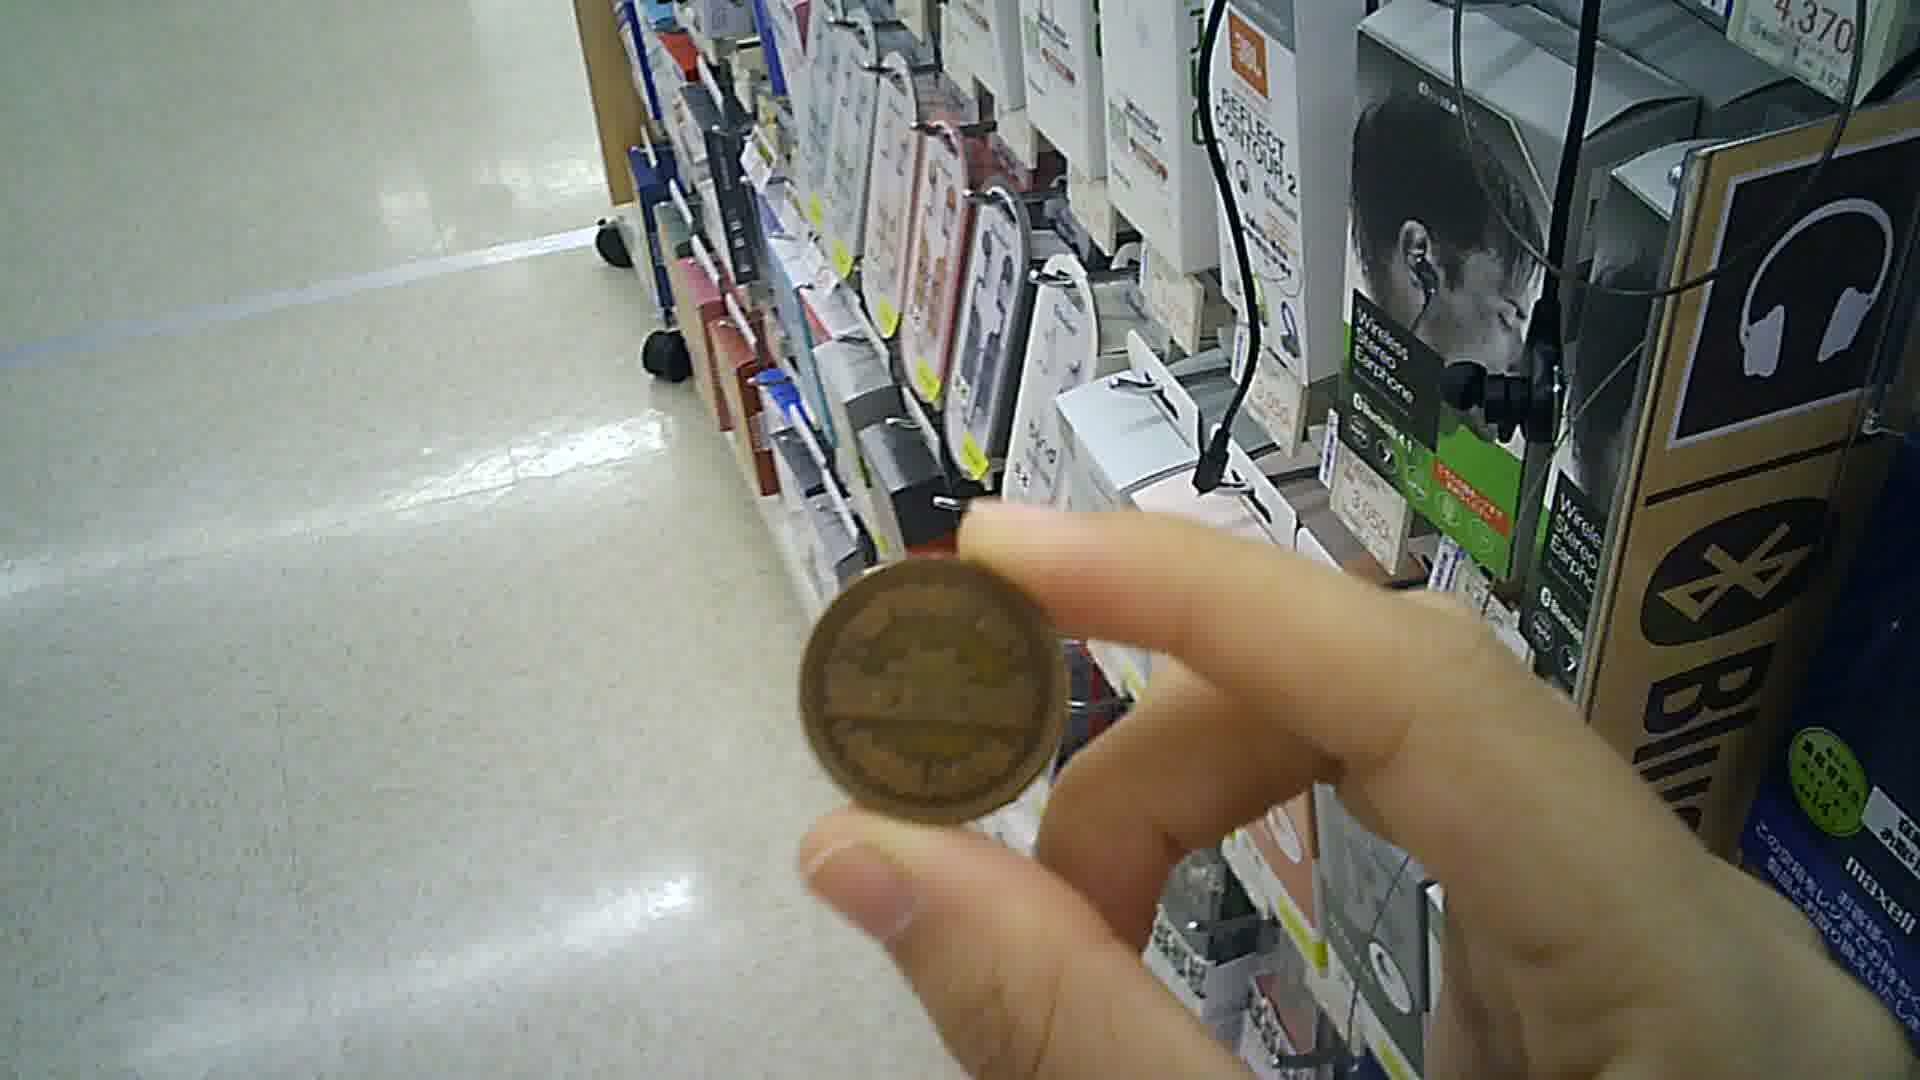10 Yen: (799, 555, 1073, 839)
